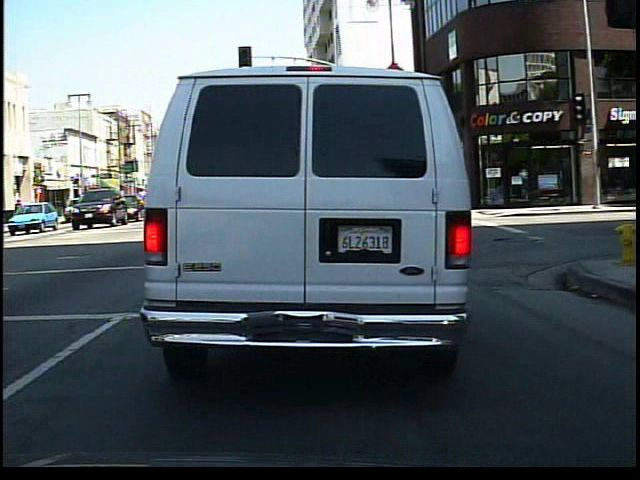person: (9, 196, 26, 227)
